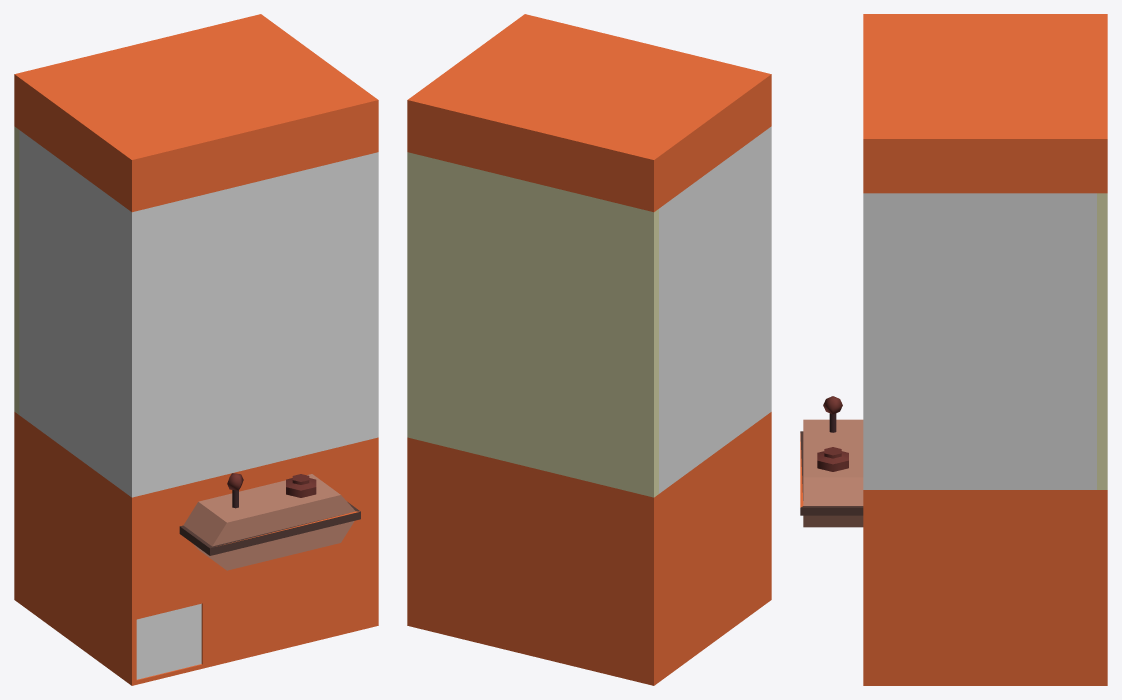
Rendered from SM_GameArea_RecreationalMachines_05.fbx.
3 renders of one model, left to right at view 1: azimuth 30°, elevation 25°; view 2: azimuth 150°, elevation 25°; view 3: azimuth 270°, elevation 25°, orthographic. The views are drawn at different scales.
Parts seen in each view (by area): view 1: SM_GameArea_RecreationalMachines_05; view 2: SM_GameArea_RecreationalMachines_05; view 3: SM_GameArea_RecreationalMachines_05.
Part boxes in pixels (box(x1,y1,x2,y2)): SM_GameArea_RecreationalMachines_05: box(14, 14, 378, 685); SM_GameArea_RecreationalMachines_05: box(407, 14, 771, 685); SM_GameArea_RecreationalMachines_05: box(800, 14, 1107, 685).
Size of the model in its own units: 4.95 by 10.08 by 5.13.
3 materials, 1 textured.
